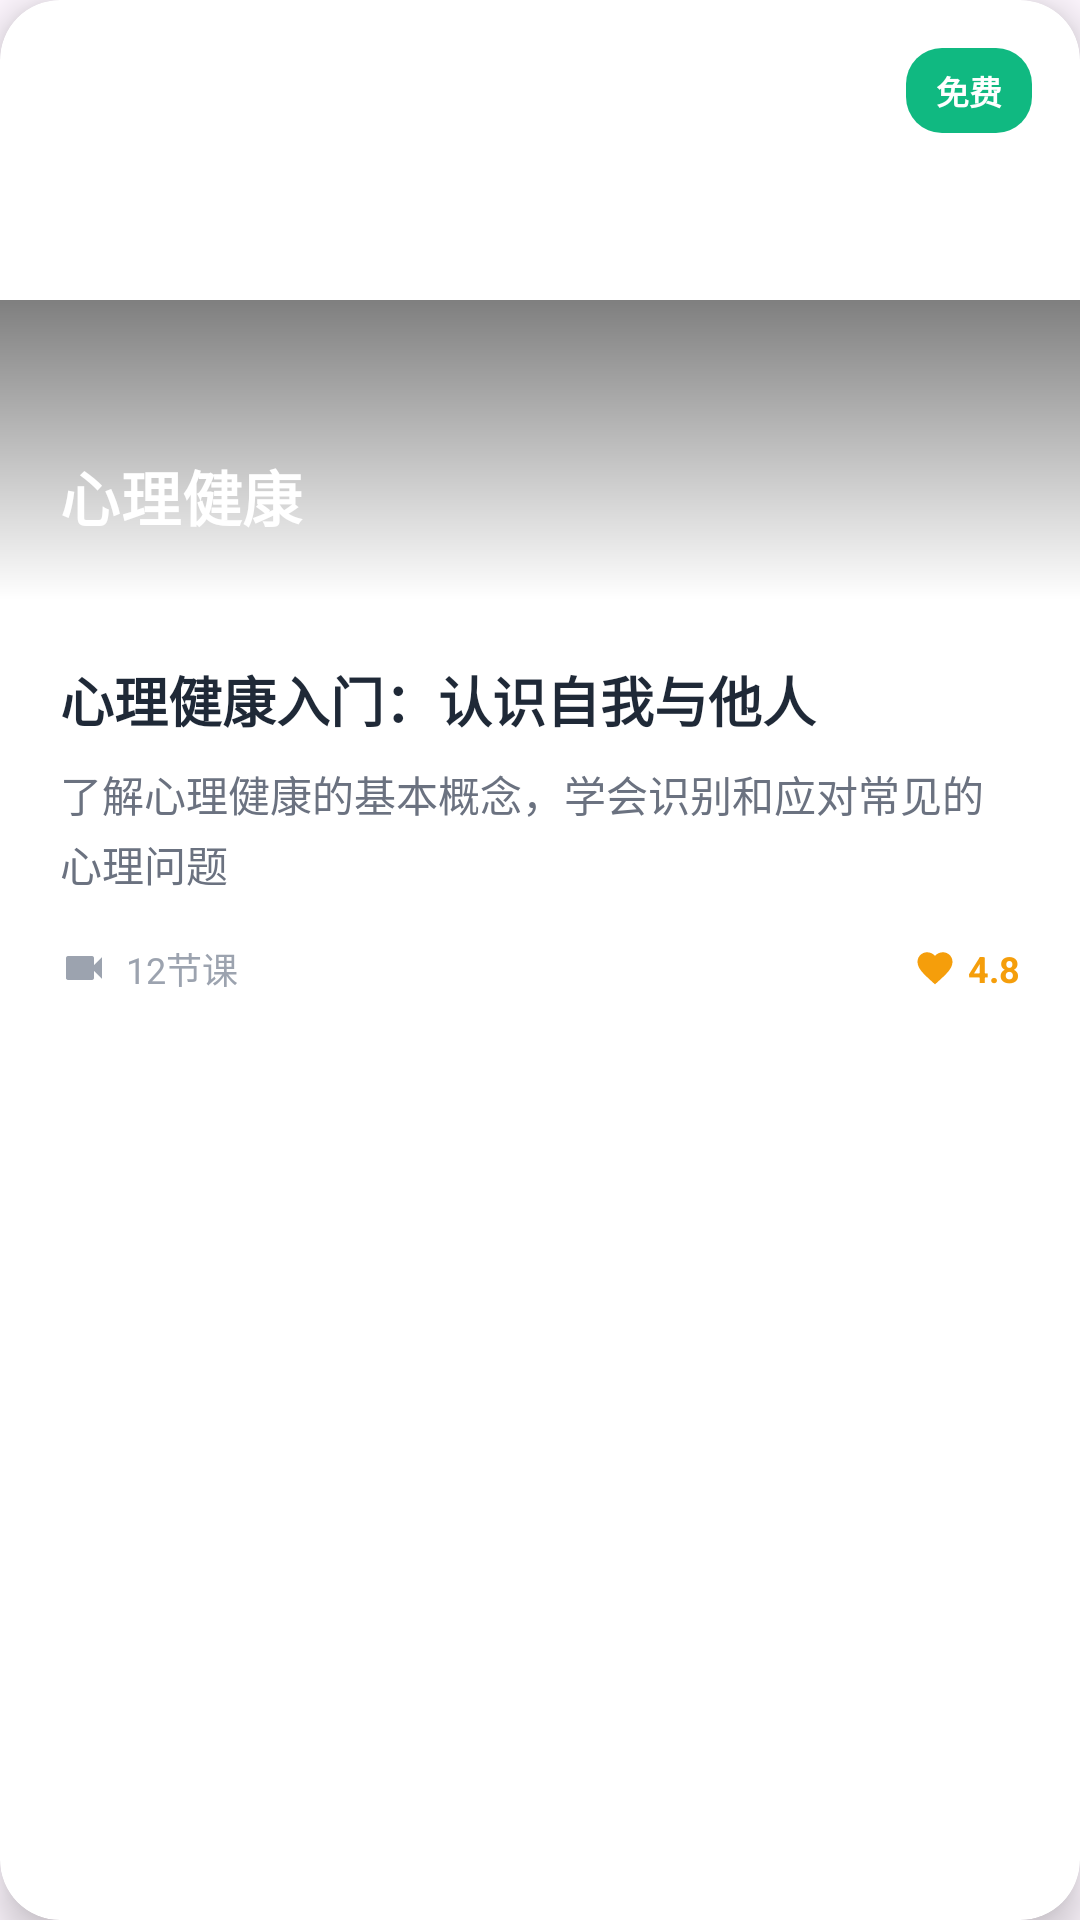

Named icons in this screenshot (1080×1920) and their centers, (x,y):
favorite: (935,968)
